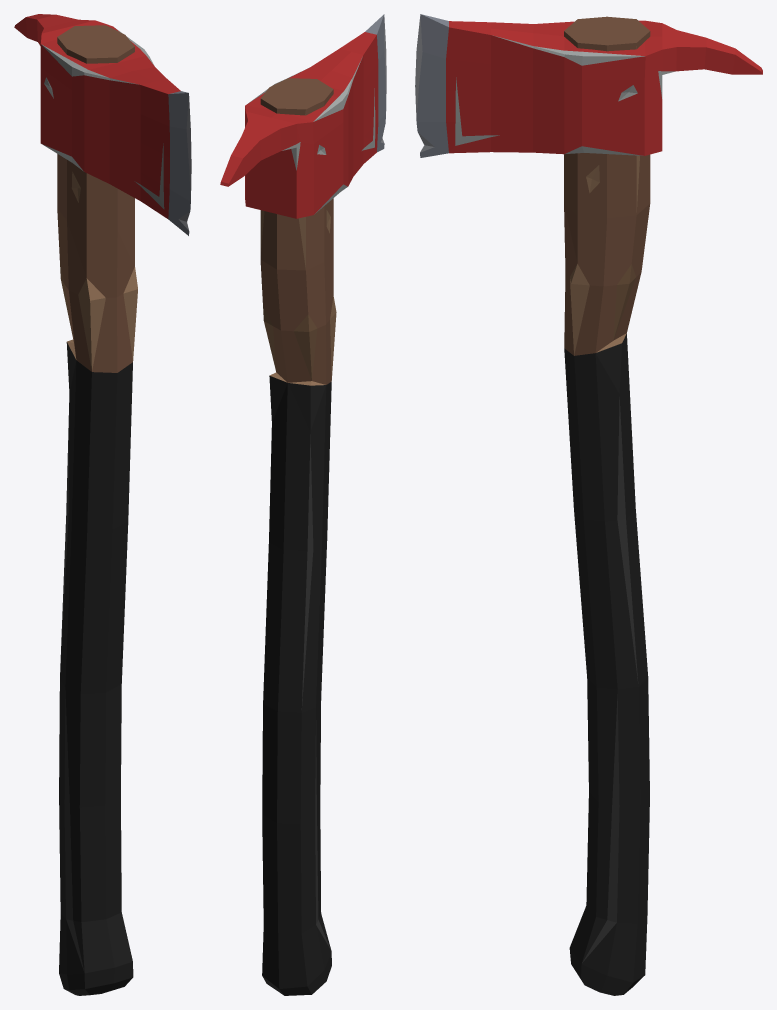
Rendered from mesh_fireaxe.fbx.
3 renders of one model, left to right at view 1: azimuth 30°, elevation 25°; view 2: azimuth 150°, elevation 25°; view 3: azimuth 270°, elevation 25°, orthographic. The views are drawn at different scales.
Parts seen in each view (by area): view 1: mesh_fireaxe; view 2: mesh_fireaxe; view 3: mesh_fireaxe.
Boxes of the visible parts, <box> form: mesh_fireaxe: <box>14,14,191,995</box>; mesh_fireaxe: <box>220,14,386,995</box>; mesh_fireaxe: <box>415,14,762,995</box>.
Size of the model in its own units: 0.085 by 1.07 by 0.3469.
